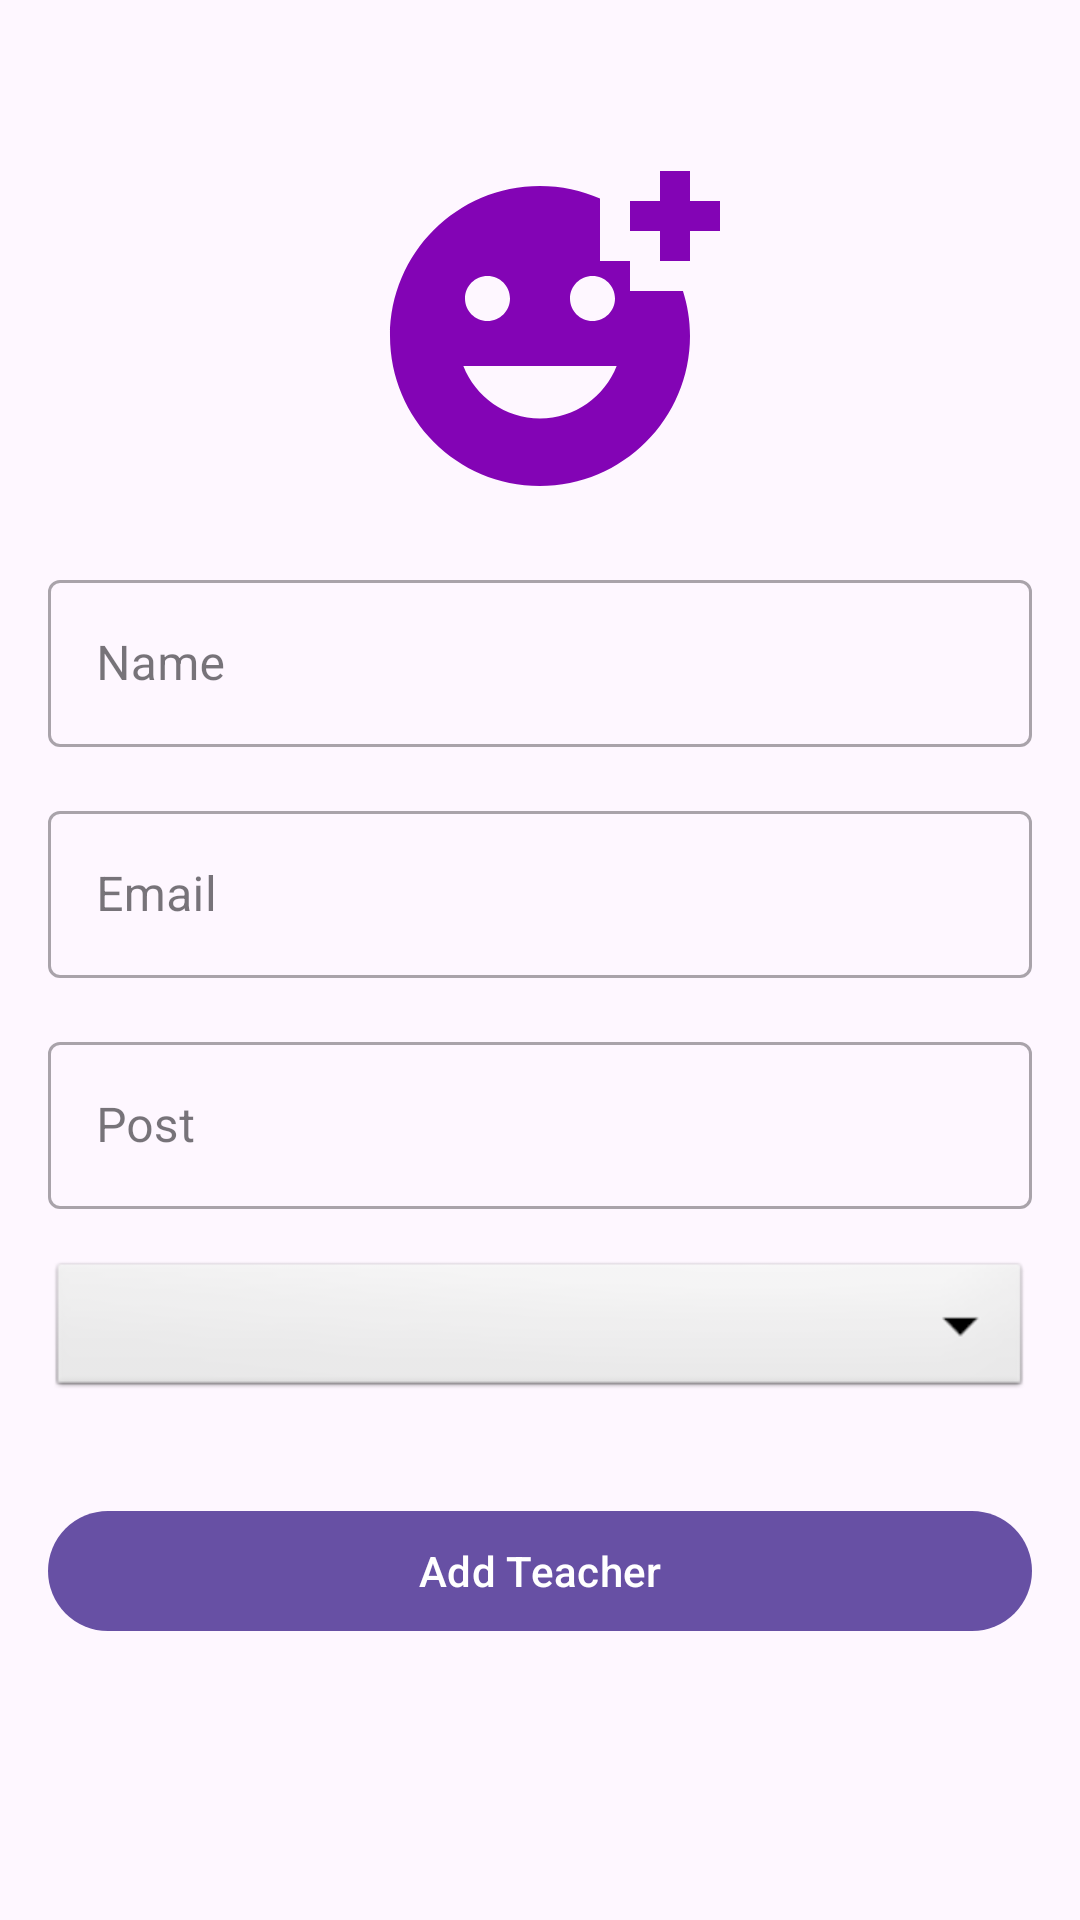

Icons on this 1080 × 1920 Android screen, each with the point to tap as (x,y):
add reaction: (555,328)
